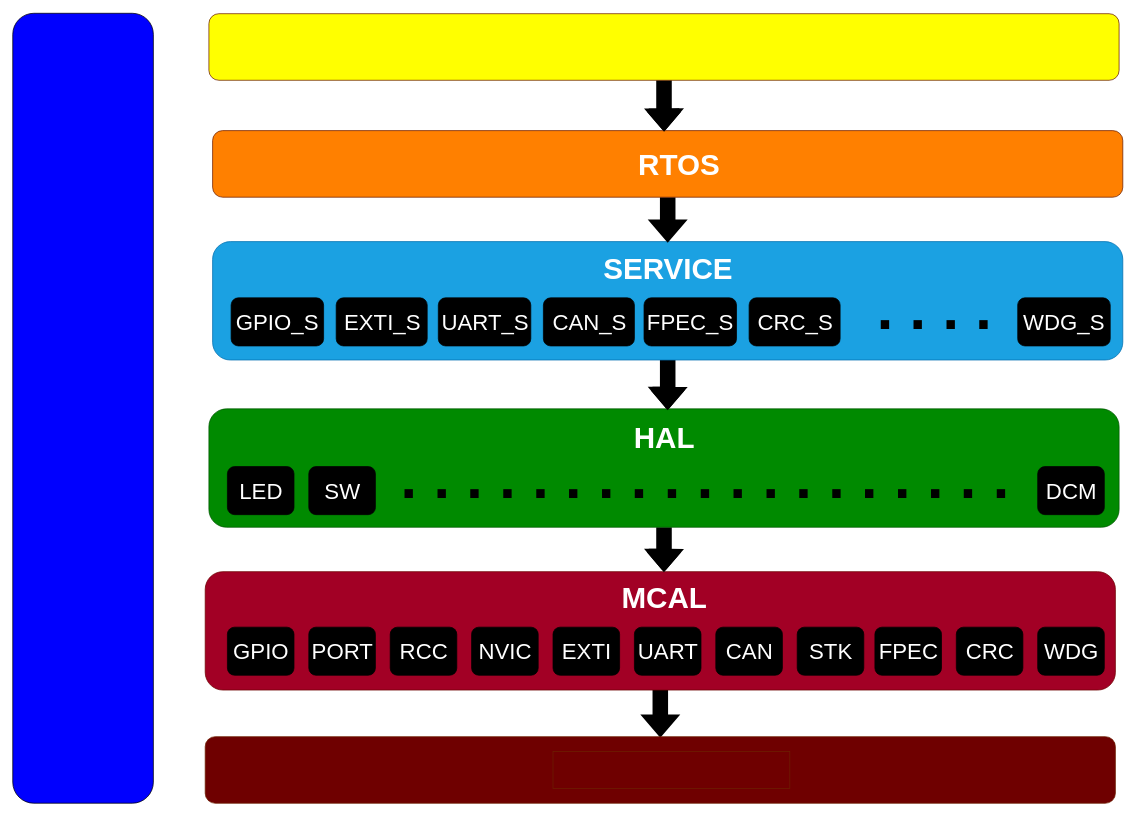
Some shapes in this 1137 by 816 pixel diagram are drawn without their labels. Each missing label, with the box of its shape:
APP: (208, 13, 1119, 80)
LIBRARY: (12, 13, 153, 803)
Micro Controller: (552, 751, 790, 788)
